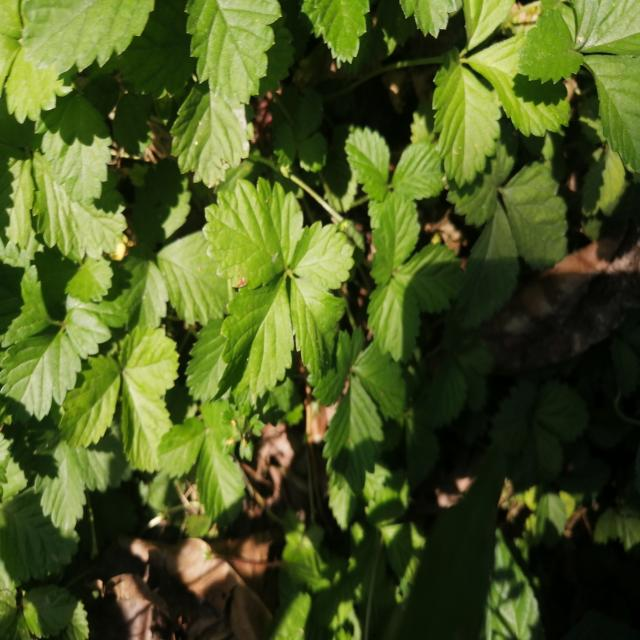Mock_strawberry: (196, 180, 367, 374), (339, 117, 458, 366)
